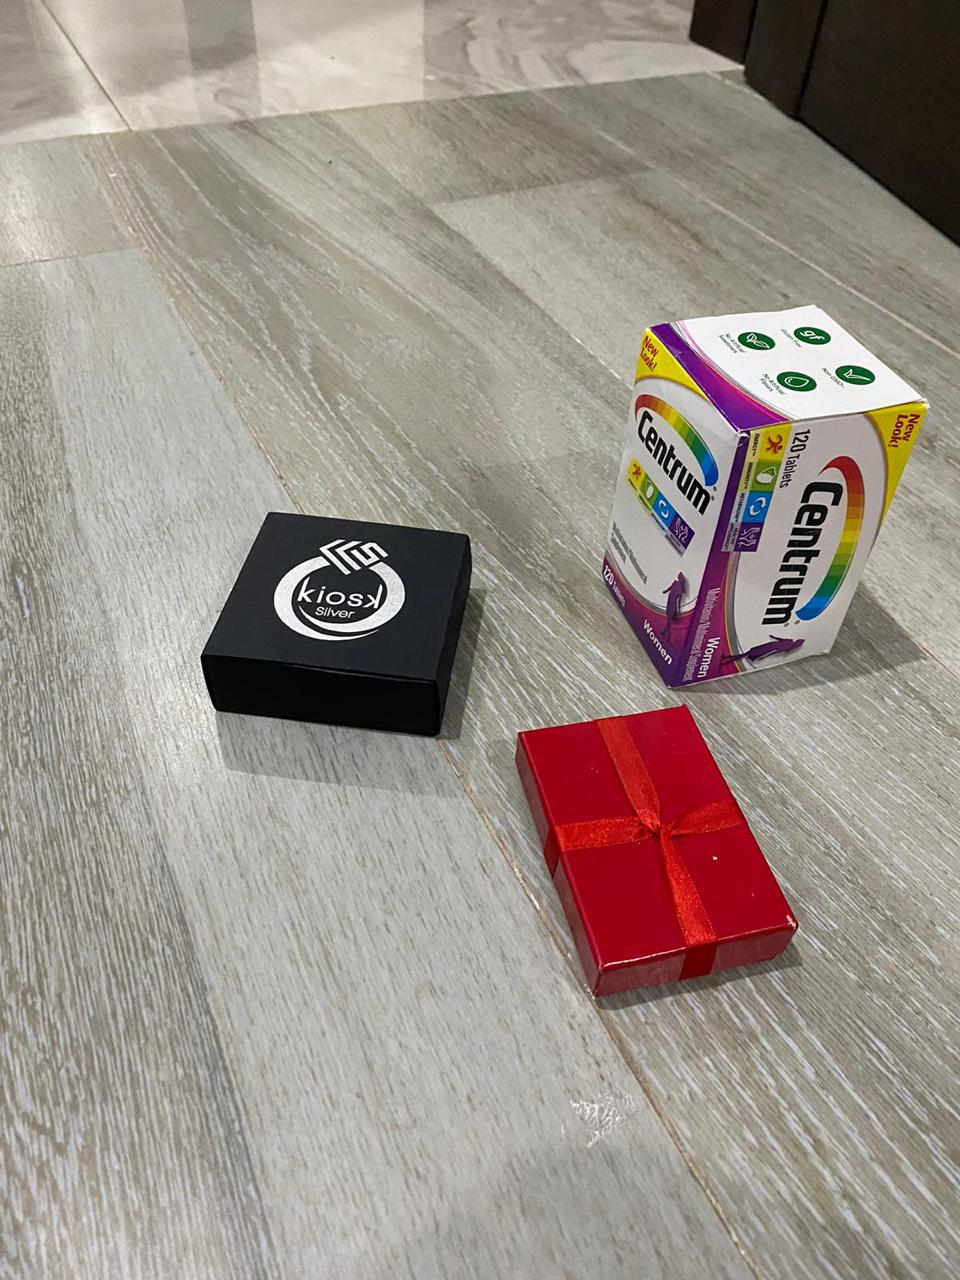Black Box: (512, 703, 799, 1008)
Centrum: (599, 304, 930, 692)
Red Box: (199, 504, 476, 742)
